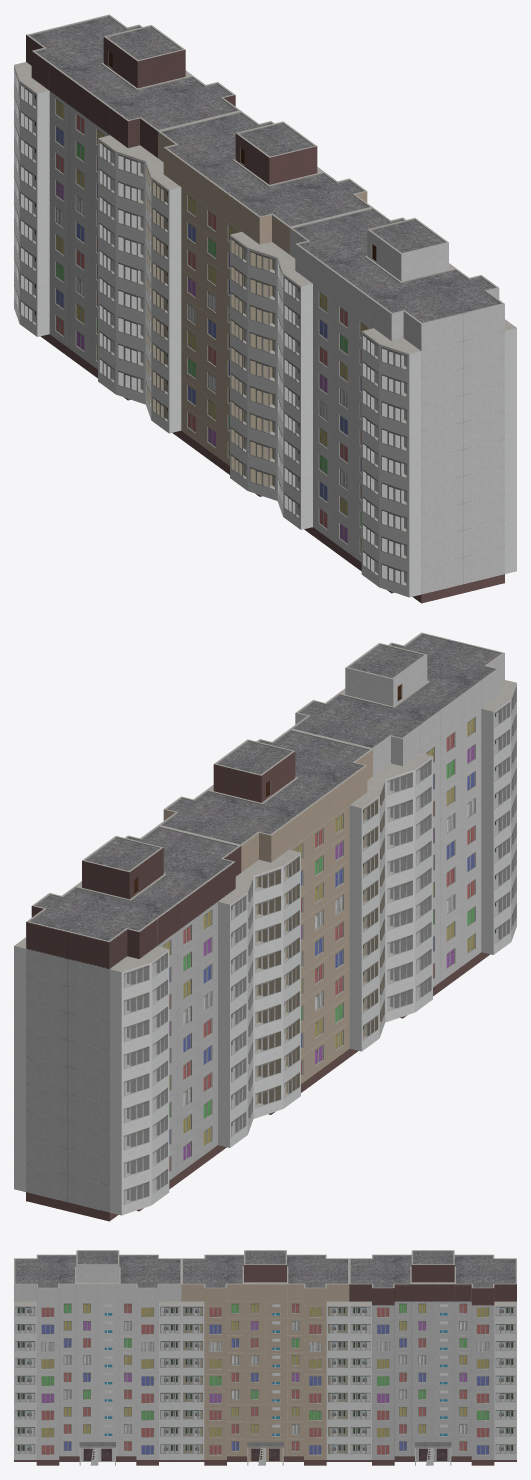
File: block9.glb
The picture shows the model from 3 angles, top to bottom: view 1: azimuth 30°, elevation 25°; view 2: azimuth 150°, elevation 25°; view 3: azimuth 270°, elevation 25°; orthographic projection. The views are drawn at different scales.
Visible parts, largest first — view 1: Cube.001_building.002_0, Cube.002_building_0, Cube_building.001_0, Cube_windows.001_0, Cube_interior.001_0, Cube.002_windows.002_0, Cube.001_windows_0; view 2: Cube.002_building_0, Cube.001_building.002_0, Cube_building.001_0, Cube_windows.001_0, Cube.001_windows_0, Cube_interior.001_0, Cube.002_windows.002_0; view 3: Cube_building.001_0, Cube.002_building_0, Cube.001_building.002_0, Cube_interior.001_0, Cube.001_windows_0, Cube.002_windows.002_0, Cube_windows.001_0.
Part boxes in pixels (left/top/right/bottom): Cube.001_building.002_0: left=277, top=207, right=516, bottom=603; Cube.002_building_0: left=14, top=14, right=240, bottom=404; Cube_building.001_0: left=145, top=111, right=372, bottom=500; Cube_windows.001_0: left=146, top=165, right=275, bottom=490; Cube_interior.001_0: left=56, top=100, right=367, bottom=552; Cube.002_windows.002_0: left=14, top=68, right=143, bottom=393; Cube.001_windows_0: left=278, top=262, right=407, bottom=586; Cube.002_building_0: left=14, top=825, right=253, bottom=1221; Cube.001_building.002_0: left=290, top=632, right=516, bottom=1022; Cube_building.001_0: left=158, top=729, right=385, bottom=1118; Cube_windows.001_0: left=255, top=783, right=384, bottom=1108; Cube.001_windows_0: left=387, top=686, right=516, bottom=1011; Cube_interior.001_0: left=163, top=718, right=474, bottom=1171; Cube.002_windows.002_0: left=123, top=880, right=252, bottom=1204; Cube_building.001_0: left=181, top=1250, right=349, bottom=1465; Cube.002_building_0: left=349, top=1250, right=516, bottom=1465; Cube.001_building.002_0: left=14, top=1250, right=181, bottom=1465; Cube_interior.001_0: left=42, top=1304, right=488, bottom=1454; Cube.001_windows_0: left=15, top=1303, right=180, bottom=1454; Cube.002_windows.002_0: left=350, top=1303, right=515, bottom=1454; Cube_windows.001_0: left=183, top=1303, right=347, bottom=1454.
Size of the model in its own units: 13.41 by 32.44 by 75.89.
Materials: 7 (7 with a texture image).
